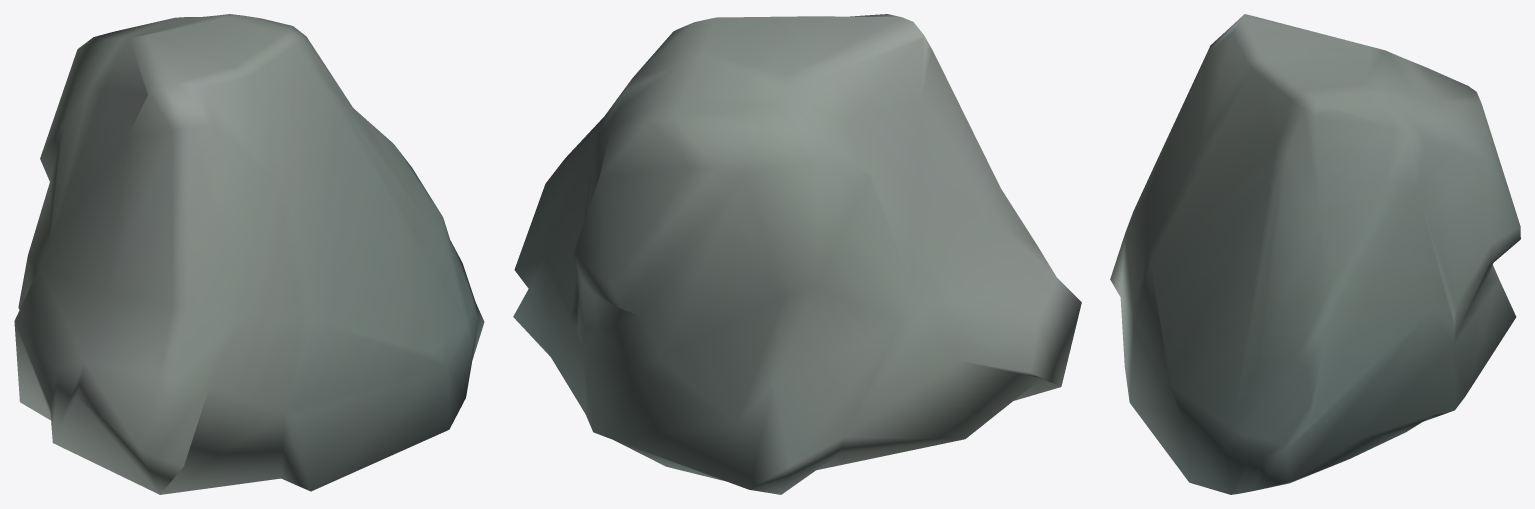
File: Rock04.fbx
The picture shows the model from 3 angles, left to right: view 1: azimuth 30°, elevation 25°; view 2: azimuth 150°, elevation 25°; view 3: azimuth 270°, elevation 25°; orthographic projection. The views are drawn at different scales.
Visible parts, largest first — view 1: Rock04; view 2: Rock04; view 3: Rock04.
Boxes of the visible parts, bbox=[...] form: Rock04: bbox=[14, 14, 484, 494]; Rock04: bbox=[513, 14, 1081, 494]; Rock04: bbox=[1110, 14, 1520, 494].
Size of the model in its own units: 477 by 376 by 392.
